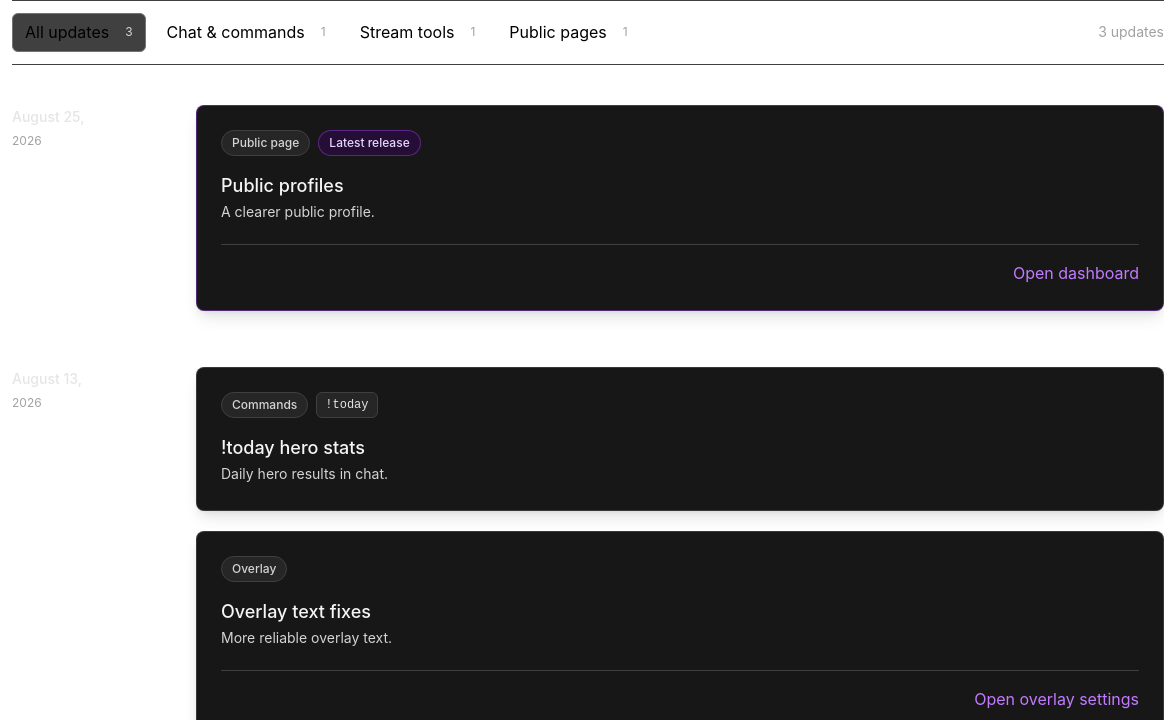
WhatsNewFeed › filters the chronological feed into user-facing groups
The image size is (1176, 720).
Expected: the text "3 updates" is shown, left=1098, top=20, right=1164, bottom=44
Click the button "Chat & commands 1".
click(246, 32)  # box left=154, top=13, right=339, bottom=52
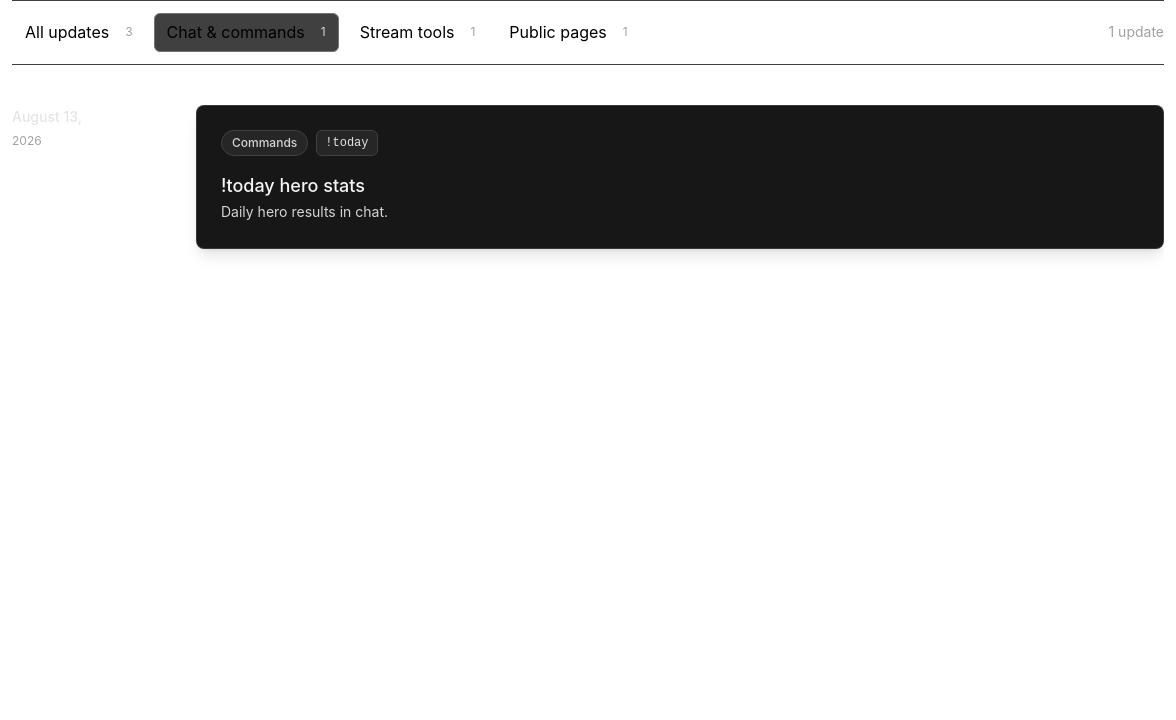
Expected: the element "!today hero stats" is shown, left=196, top=105, right=1164, bottom=249
Expected: the text "1 update" is shown, left=1108, top=20, right=1164, bottom=44
Expected: the heading "Public profiles" is gone
